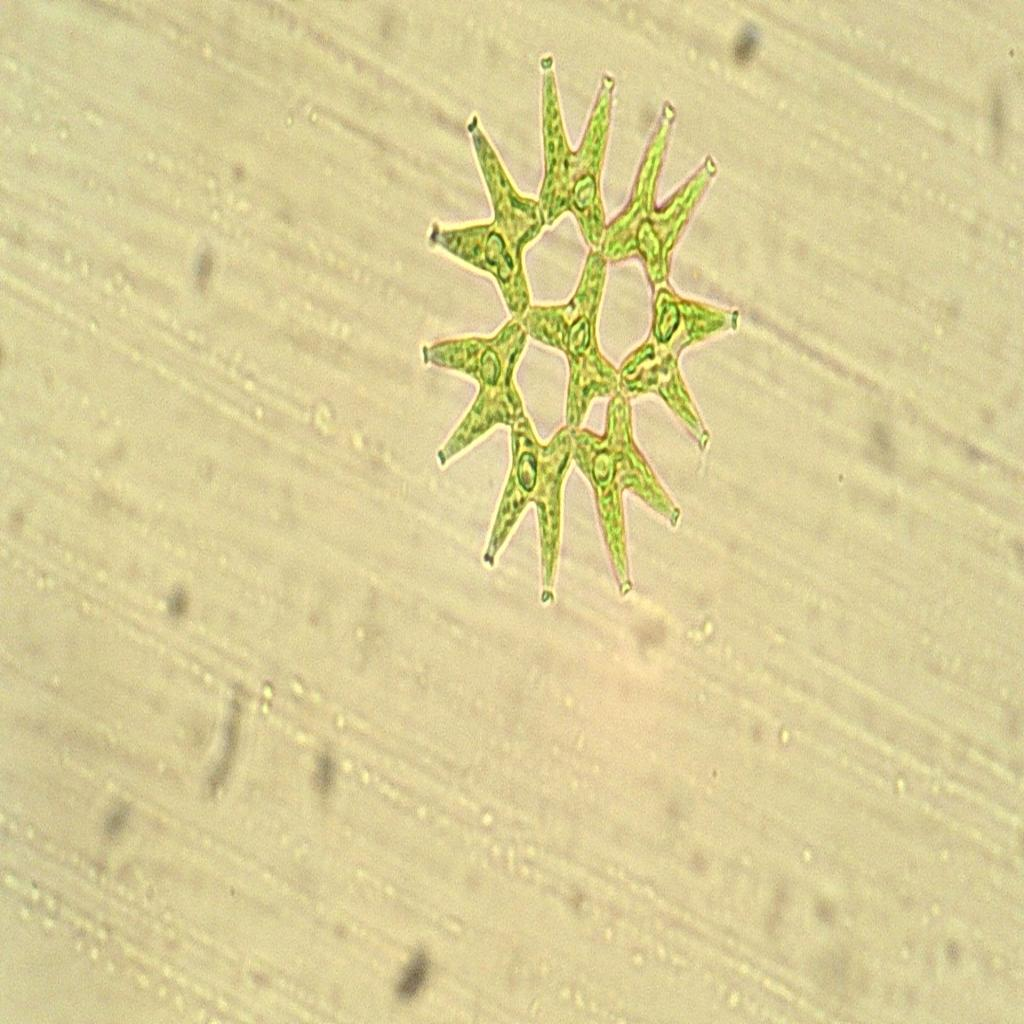Pediastrum_CTH: (413, 26, 753, 632)
